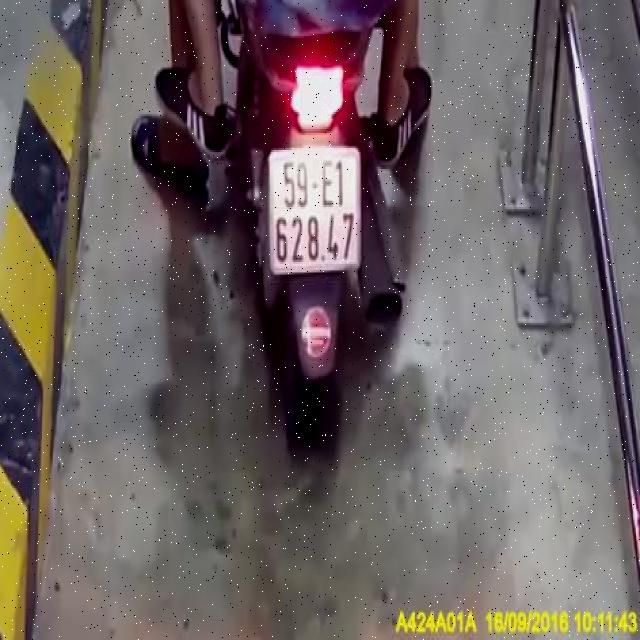1: (334, 155, 350, 211)
2: (292, 213, 306, 264)
4: (326, 213, 340, 268)
5: (280, 157, 296, 210)
6: (274, 210, 290, 269)
7: (342, 212, 358, 262)
8: (306, 215, 323, 268)
9: (296, 158, 308, 210)
E: (318, 156, 336, 209)
